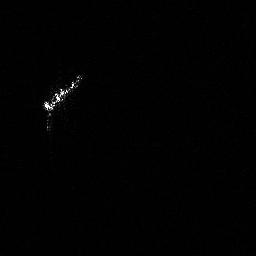ship: (40, 71, 86, 133)
